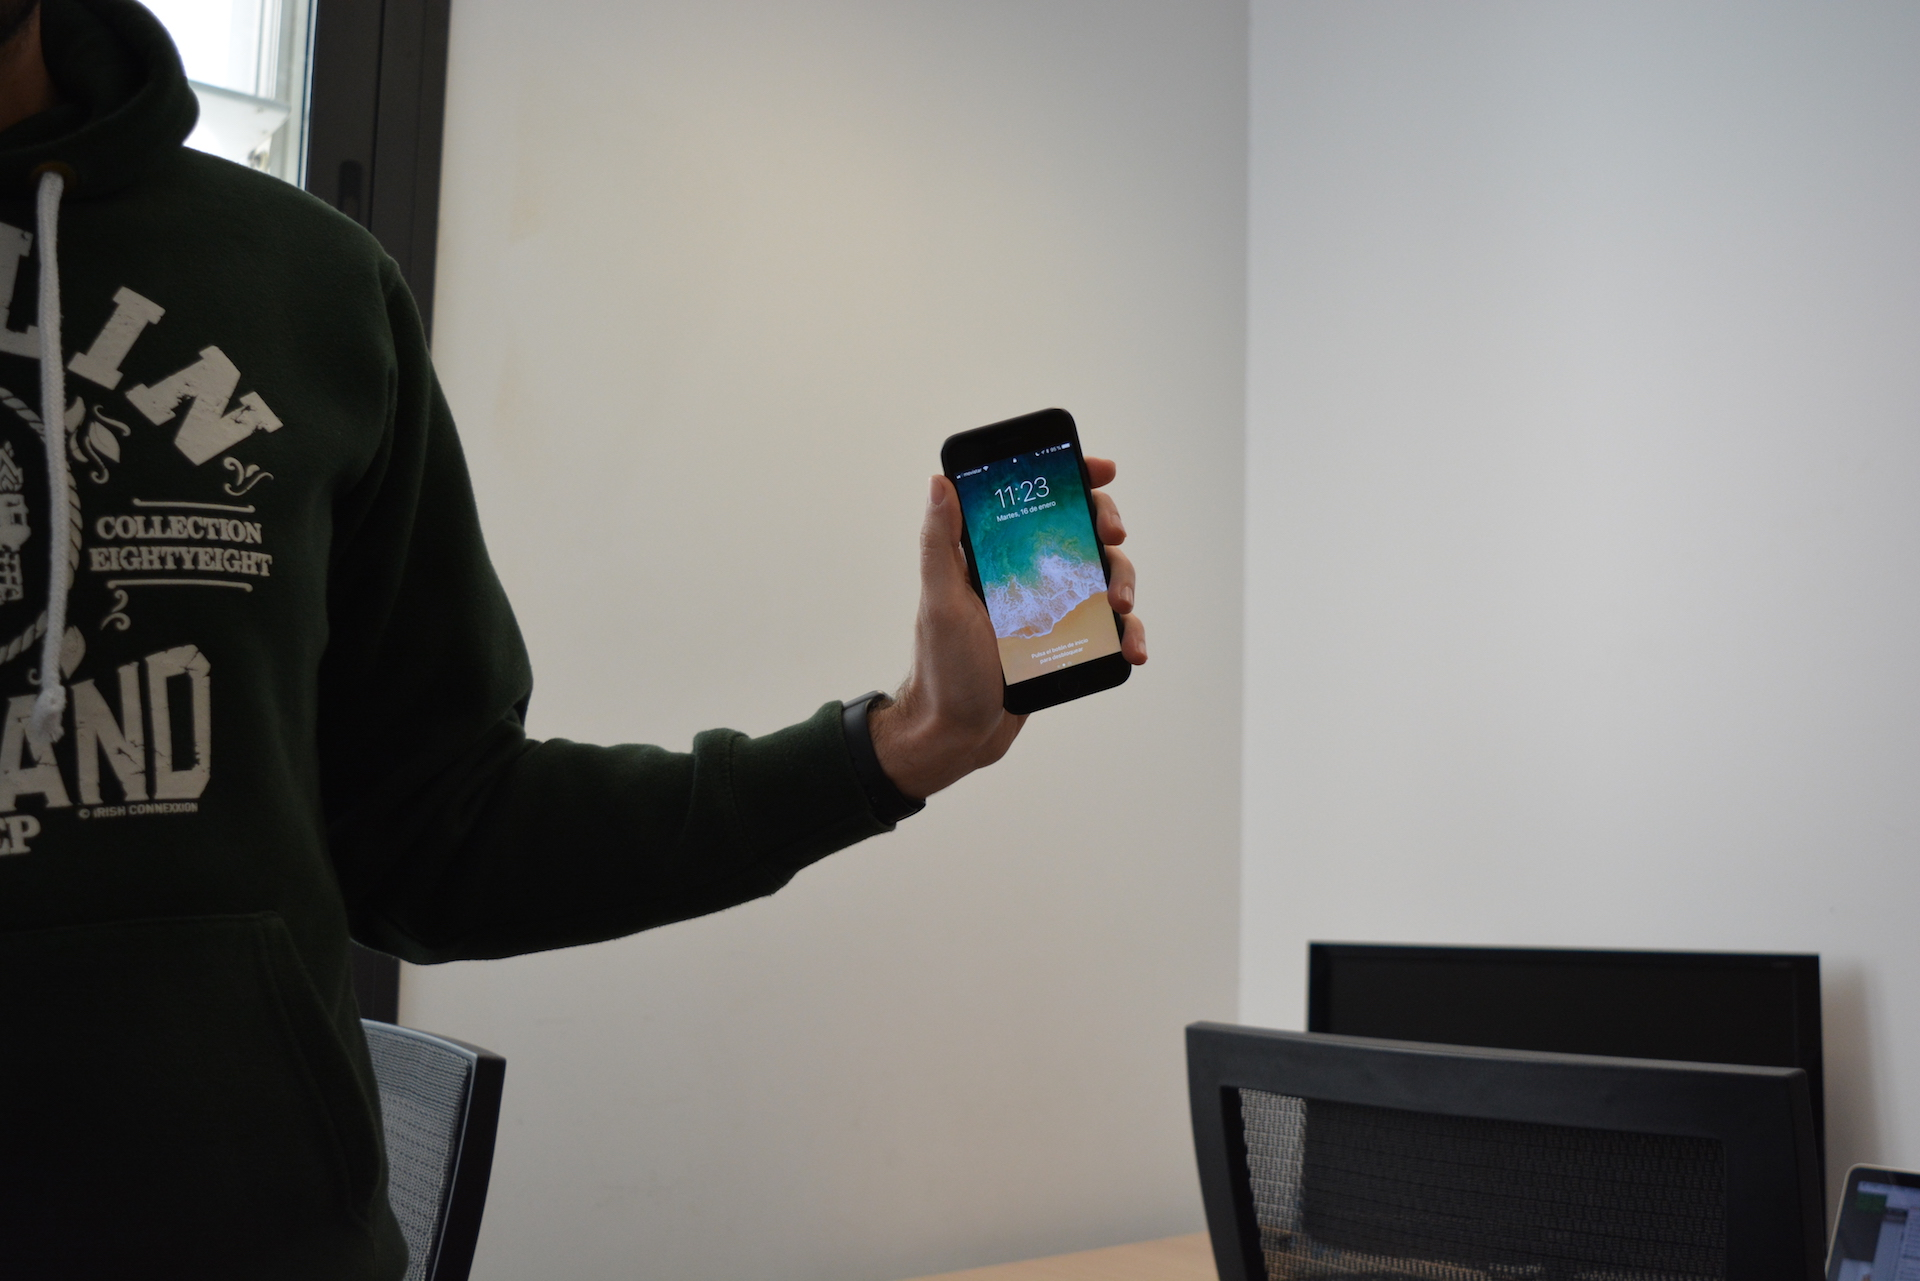smartphone: (939, 405, 1135, 718)
